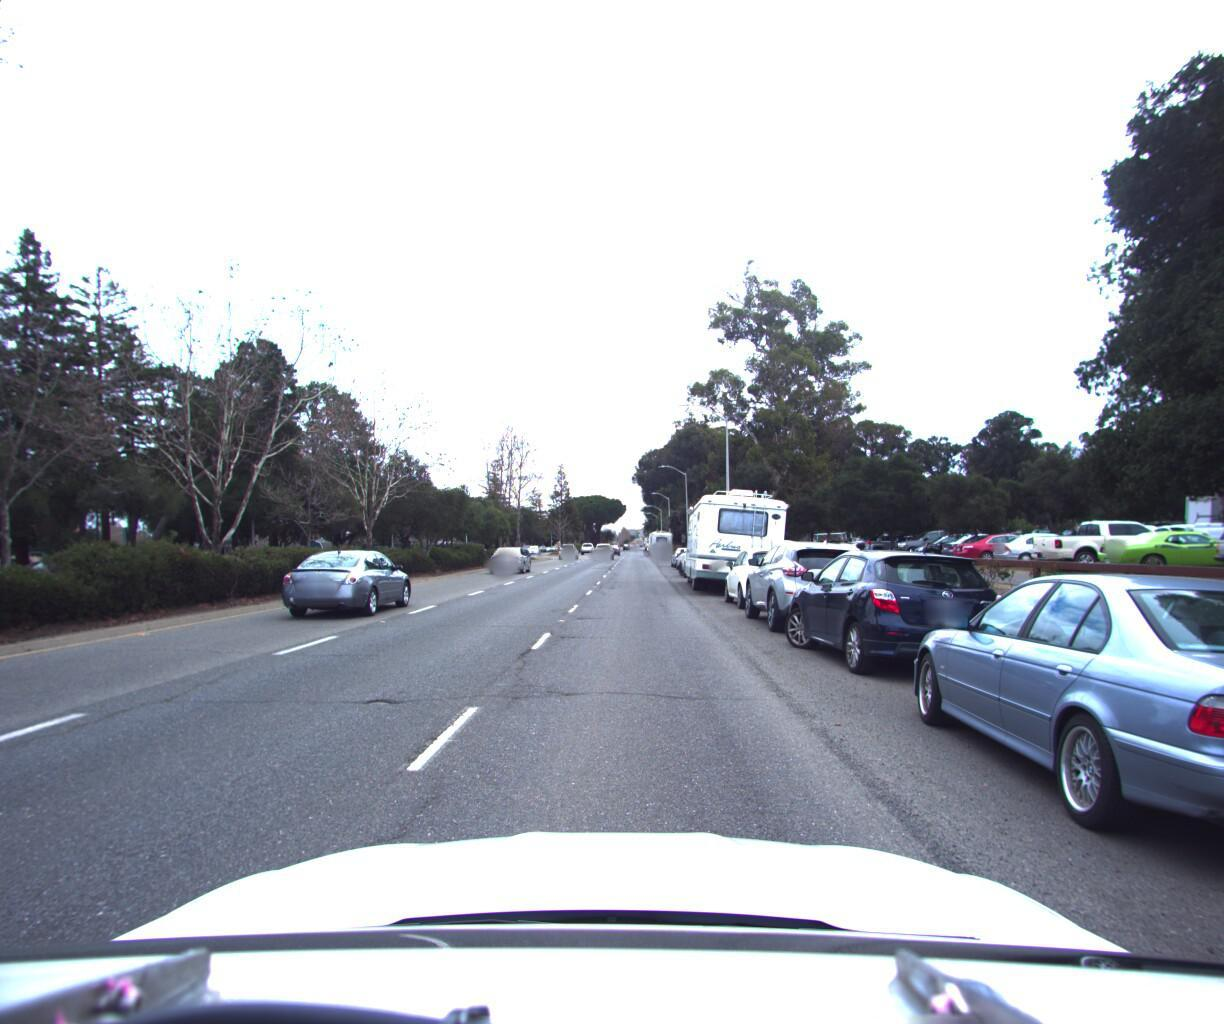car: (881, 553, 1224, 940), (775, 538, 1018, 690), (732, 532, 888, 642), (276, 547, 414, 622), (718, 535, 805, 609), (676, 532, 726, 574), (486, 541, 531, 570), (557, 537, 583, 557), (588, 541, 614, 559)
other_vehicle: (681, 478, 787, 598)
